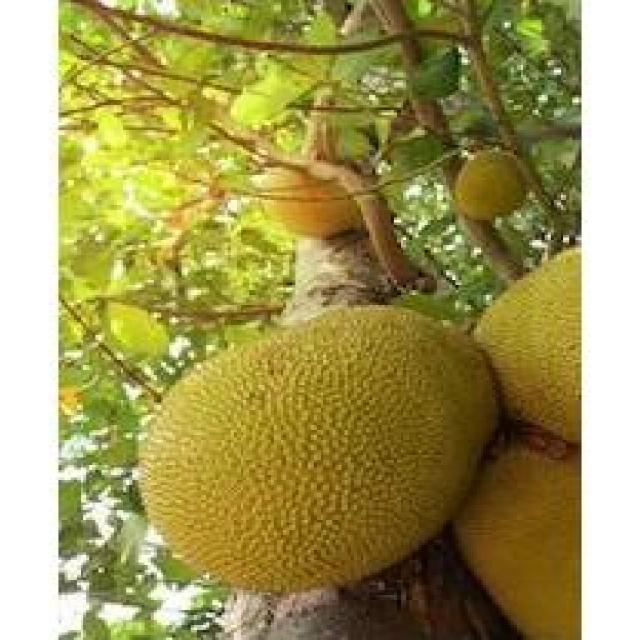Fruit: (0, 0, 397, 395), (123, 285, 517, 630)
